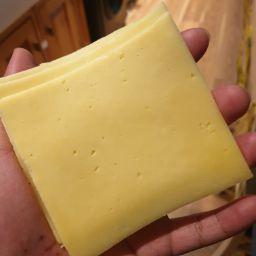Cheddar cheese: (3, 3, 255, 243), (4, 48, 220, 114)
